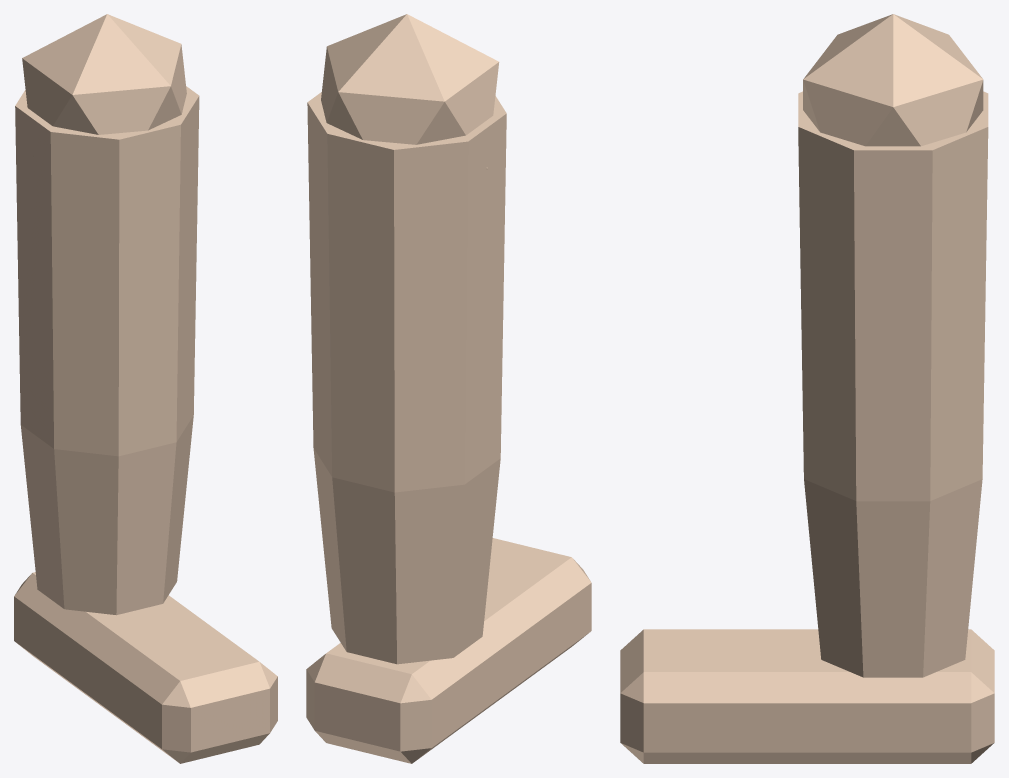
The model's file is CharShin.fbx.
3 renders of one model, left to right at view 1: azimuth 30°, elevation 25°; view 2: azimuth 150°, elevation 25°; view 3: azimuth 270°, elevation 25°, orthographic. The views are drawn at different scales.
Visible parts, largest first — view 1: CharShin; view 2: CharShin; view 3: CharShin.
Part boxes in pixels (x1=…): CharShin: x1=14, y1=14, x2=277, y2=763; CharShin: x1=306, y1=14, x2=591, y2=763; CharShin: x1=620, y1=14, x2=994, y2=763.
Size of the model in its own units: 0.122 by 0.5155 by 0.24.
